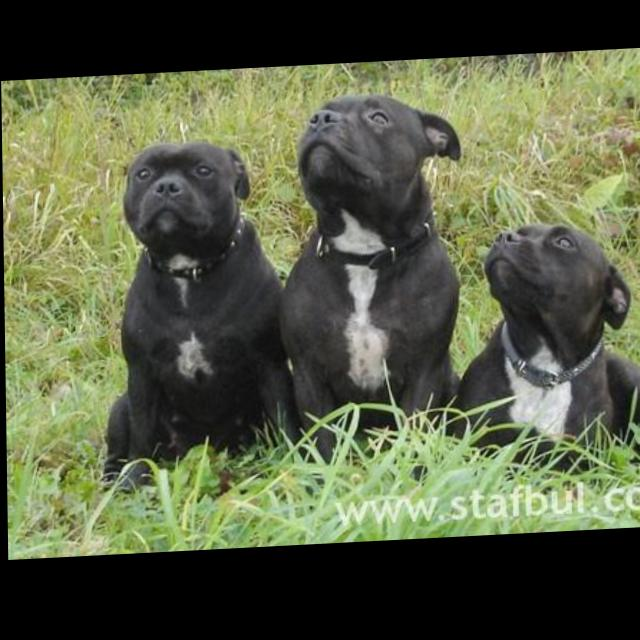staffford: (275, 93, 466, 487), (97, 139, 301, 498), (444, 223, 640, 495)
